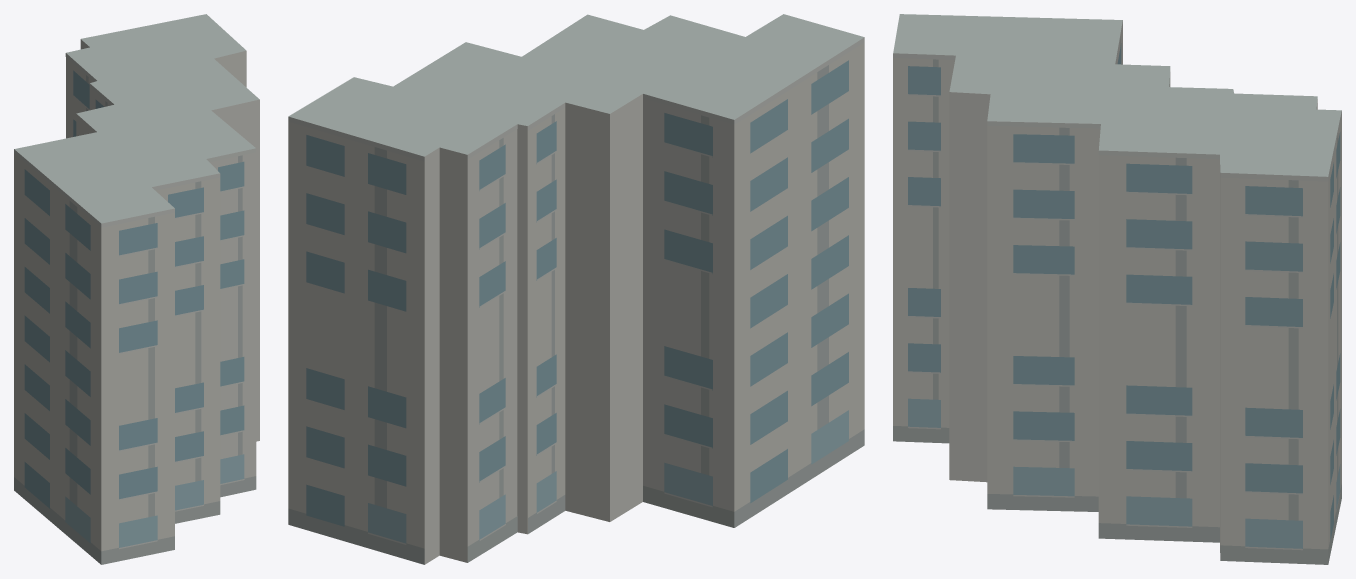
The model's file is survey-upis-32640058.glb.
The picture shows the model from 3 angles, left to right: view 1: azimuth 30°, elevation 25°; view 2: azimuth 150°, elevation 25°; view 3: azimuth 270°, elevation 25°; orthographic projection. The views are drawn at different scales.
Parts seen in each view (by area): view 1: survey-upis-32640058.tmp; view 2: survey-upis-32640058.tmp; view 3: survey-upis-32640058.tmp.
Boxes of the visible parts, <box> form: survey-upis-32640058.tmp: <box>14,14,259,564</box>; survey-upis-32640058.tmp: <box>288,14,864,564</box>; survey-upis-32640058.tmp: <box>893,14,1341,564</box>.
Size of the model in its own units: 18.23 by 20.25 by 21.23.
